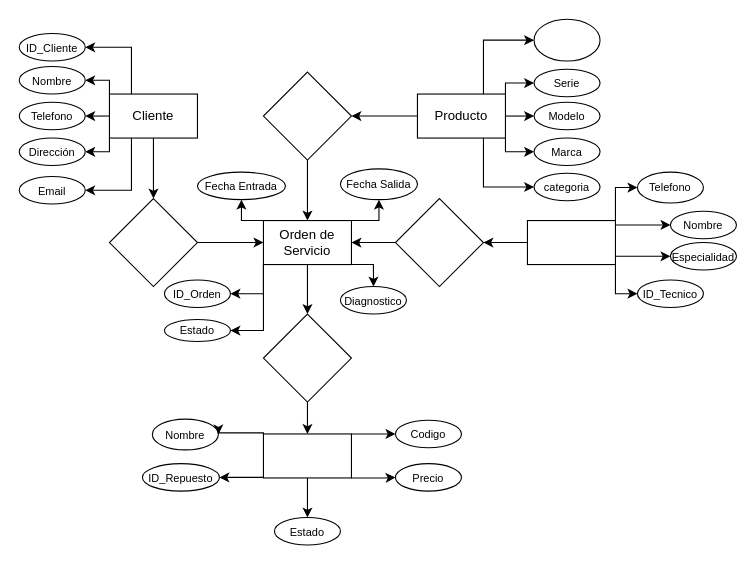
This 756x564 diagram has some shape labels left out. The centre of each missing label's shape, as x and y in pixels:
"Atiende" goes at pixel 438 242.
"fecha de compra" goes at pixel 566 39.
"Repuesto" goes at pixel 306 455.
"Solicita" goes at pixel 152 242.
"Tecnico" goes at pixel 570 242.
"Tiene" goes at pixel 306 115.
"Utiliza" goes at pixel 306 357.
